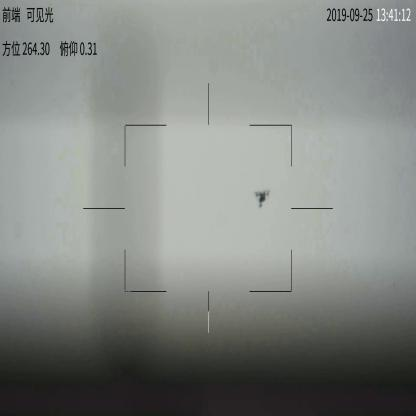uav: (252, 188, 273, 214)
